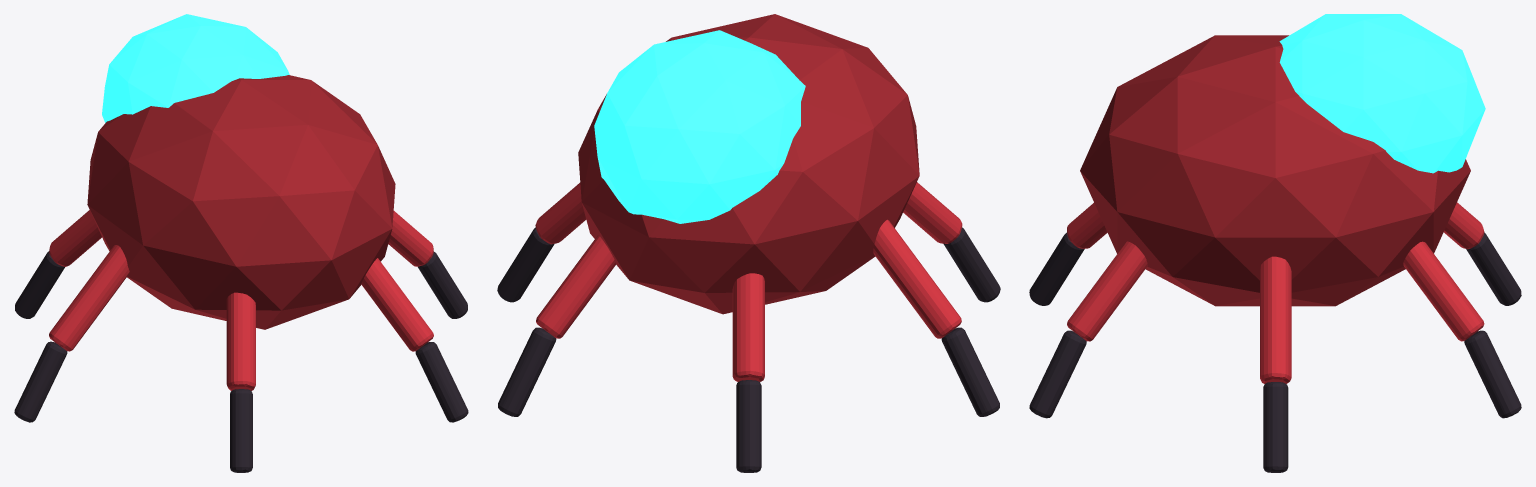
Rendered from alien_harvester.glb.
3 views of the same model, side by side, from view 1: azimuth 30°, elevation 25°; view 2: azimuth 150°, elevation 25°; view 3: azimuth 270°, elevation 25° (orthographic). The views are drawn at different scales.
Visible parts, largest first — view 1: ExtractorCore, CargoOrgan, UpperLeg.003, UpperLeg.004, UpperLeg.005, LowerLeg.003, LowerLeg.005, LowerLeg.004, UpperLeg.002, LowerLeg, LowerLeg.002, UpperLeg; view 2: ExtractorCore, CargoOrgan, UpperLeg.003, UpperLeg.002, UpperLeg.001, LowerLeg.002, LowerLeg.003, LowerLeg.001, UpperLeg.004, LowerLeg, LowerLeg.004, UpperLeg; view 3: ExtractorCore, CargoOrgan, UpperLeg, UpperLeg.001, UpperLeg.005, LowerLeg, LowerLeg.001, LowerLeg.005, LowerLeg.004, LowerLeg.002, UpperLeg.002, UpperLeg.004.
Part boxes in pixels (x1,y1,x2,y2): ExtractorCore: (87,75,395,329); CargoOrgan: (102,14,289,122); UpperLeg.003: (49,245,129,351); UpperLeg.004: (226,292,255,390); UpperLeg.005: (361,258,433,351); LowerLeg.003: (14,341,67,422); LowerLeg.005: (415,342,468,422); LowerLeg.004: (230,389,252,472); UpperLeg.002: (49,210,101,266); LowerLeg: (418,251,467,318); LowerLeg.002: (15,251,64,318); UpperLeg: (388,211,433,266); ExtractorCore: (578,14,919,314); CargoOrgan: (594,30,805,223); UpperLeg.003: (873,219,961,338); UpperLeg.002: (732,273,764,381); UpperLeg.001: (536,235,615,338); LowerLeg.002: (736,380,761,472); LowerLeg.003: (941,327,999,416); LowerLeg.001: (498,327,556,416); UpperLeg.004: (903,182,962,243); LowerLeg: (497,227,554,302); LowerLeg.004: (943,227,1000,302); UpperLeg: (535,182,586,244); ExtractorCore: (1080,35,1470,306); CargoOrgan: (1279,14,1485,173); UpperLeg: (1260,256,1291,383); UpperLeg.001: (1403,241,1484,341); UpperLeg.005: (1067,241,1147,341); LowerLeg: (1263,382,1288,472); LowerLeg.001: (1464,330,1521,418); LowerLeg.005: (1029,330,1086,418); LowerLeg.004: (1029,232,1084,305); LowerLeg.002: (1466,232,1521,305); UpperLeg.002: (1444,202,1484,249); UpperLeg.004: (1067,203,1107,248).
Bounding box in the file's own units: 1.15 × 0.7684 × 1.01.
